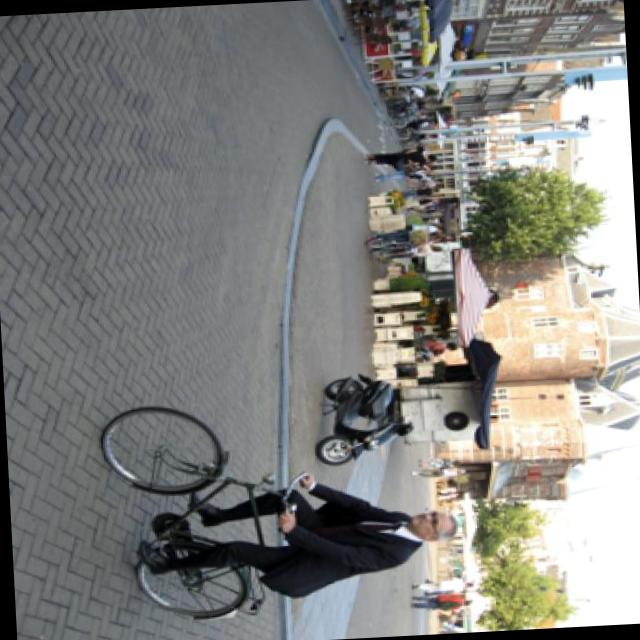bareface: (405, 505, 458, 551)
